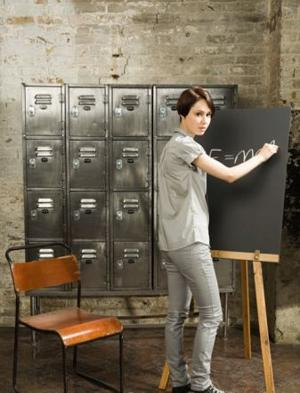person: (158, 85, 276, 393)
